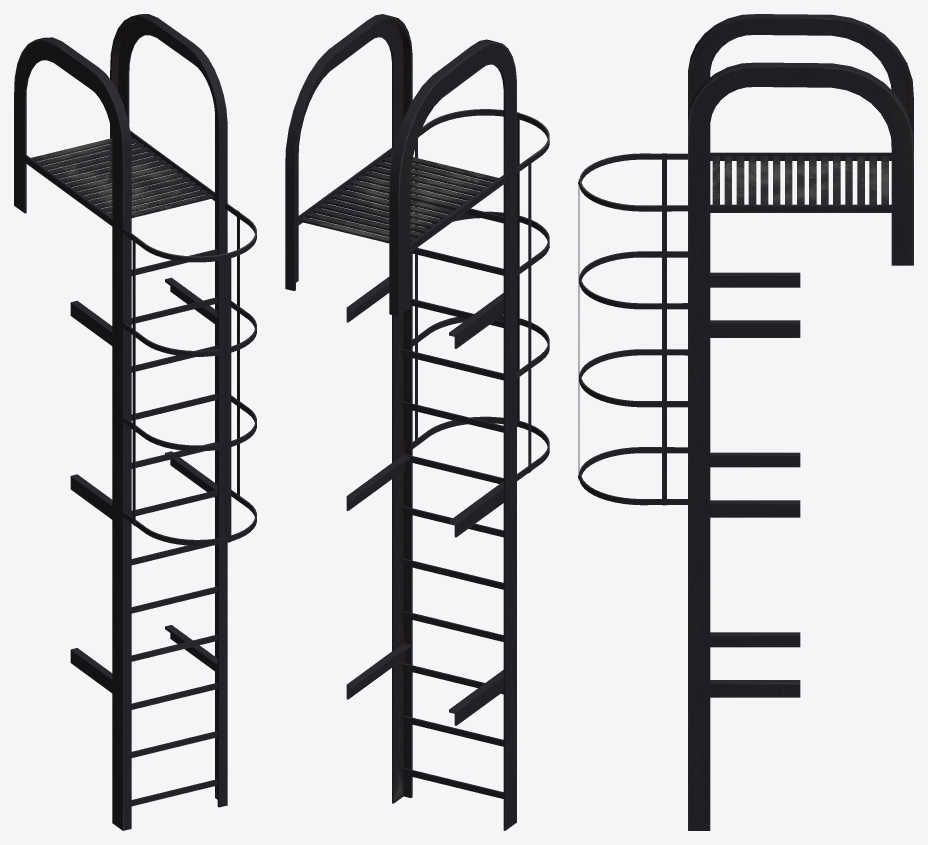
Rendered from пожарная лестница миниверсия.fbx.
The picture shows the model from 3 angles, left to right: view 1: azimuth 30°, elevation 25°; view 2: azimuth 150°, elevation 25°; view 3: azimuth 270°, elevation 25°; orthographic projection. The views are drawn at different scales.
Visible parts, largest first — view 1: up.005_low; view 2: up.005_low; view 3: up.005_low.
Boxes of the visible parts, x1,y1,x2,y2 form: up.005_low: (14, 14, 256, 830); up.005_low: (285, 14, 549, 830); up.005_low: (578, 14, 913, 830).
Size of the model in its own units: 44.04 by 293 by 117.
